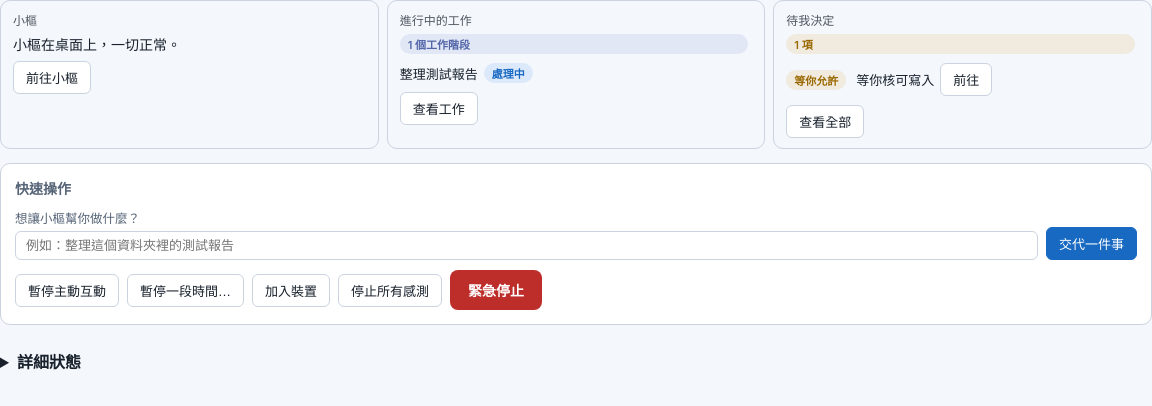
it: 快速操作：停止所有感測（誠實階梯） › 重讀後仍有感測在用：說仍在使用中，不得說已停止
This screenshot has width=1152, height=406.
Expected: the text "小樞在桌面上，一切正常。" is shown, [13,36,181,53]
Click the button "停止所有感測". click: coordinates (390, 290)
box: [338,274,442,306]
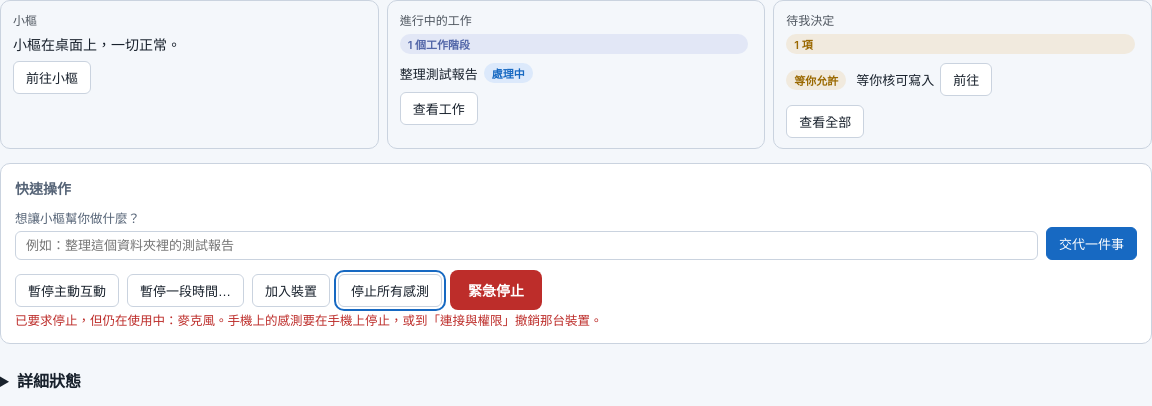
Expected: the message shows "仍在使用中", [15,313,602,328]
Expected: the message shows "麥克風", [15,313,602,328]
